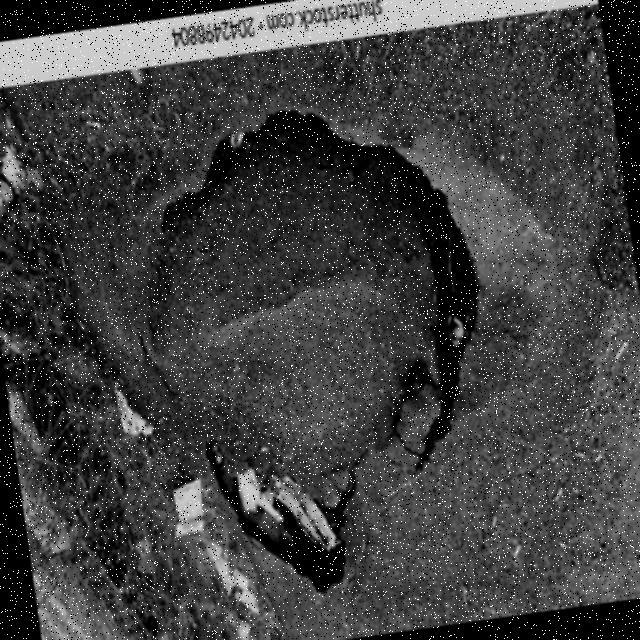Pothole: (141, 108, 479, 593)
